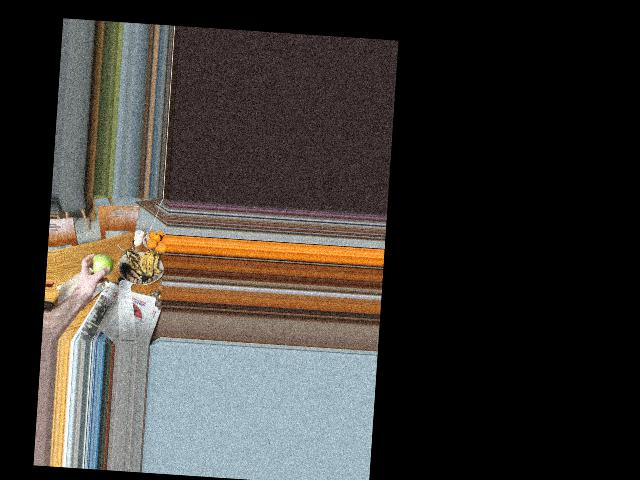apple: (91, 252, 113, 279)
